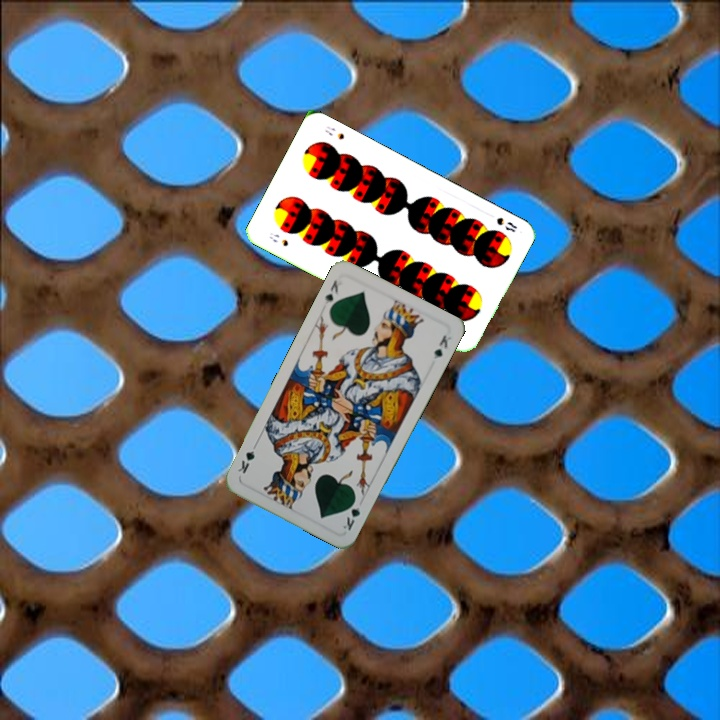GK: (338, 494, 363, 533), (320, 276, 341, 307)
S8: (492, 213, 519, 235), (265, 228, 291, 249)
